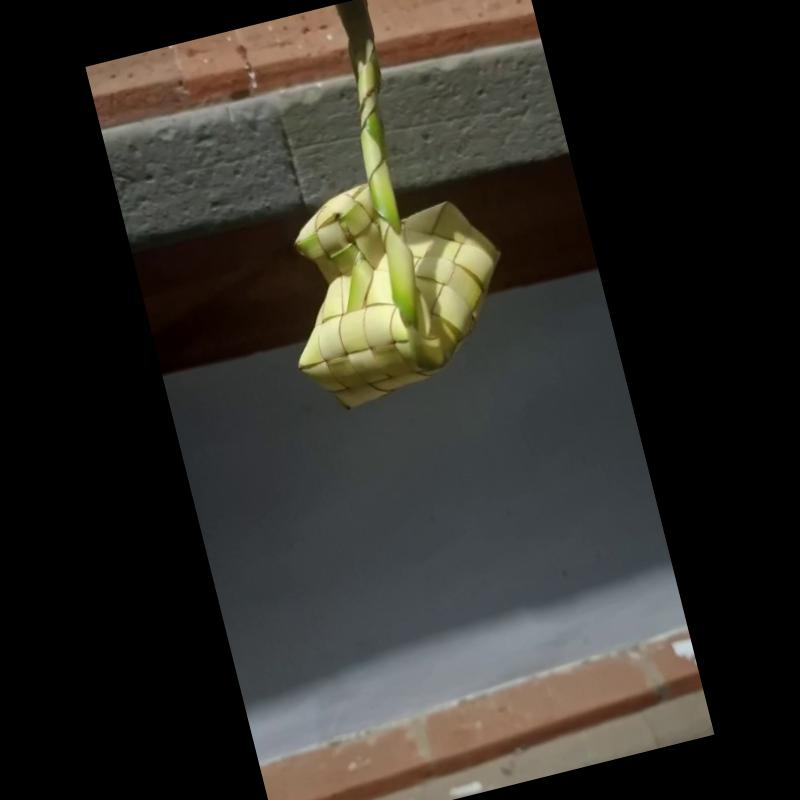Tipat Gong: (294, 0, 502, 421)
